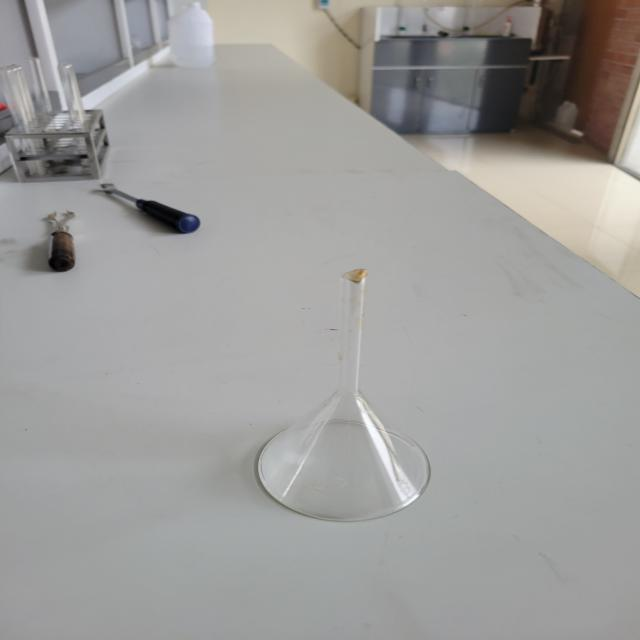Funnel: (233, 234, 472, 545)
